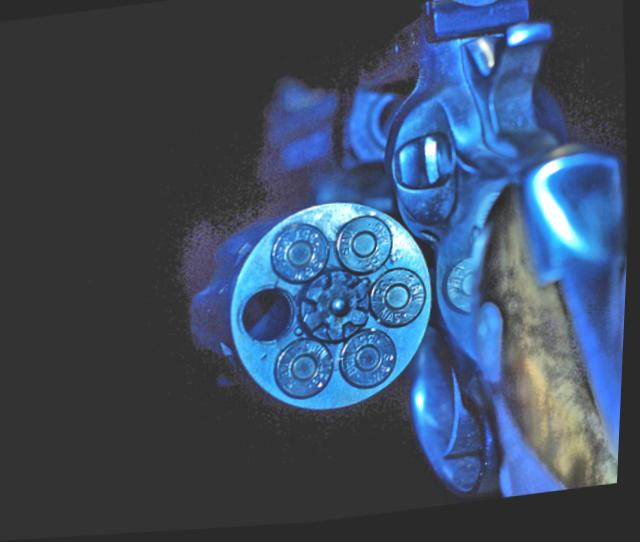pistol: (170, 0, 640, 533)
